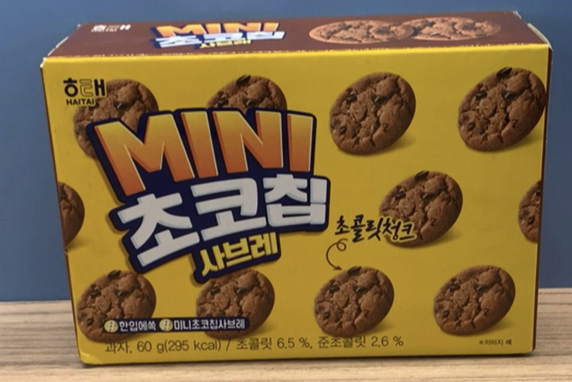cookies_50g: (64, 73, 527, 350)
